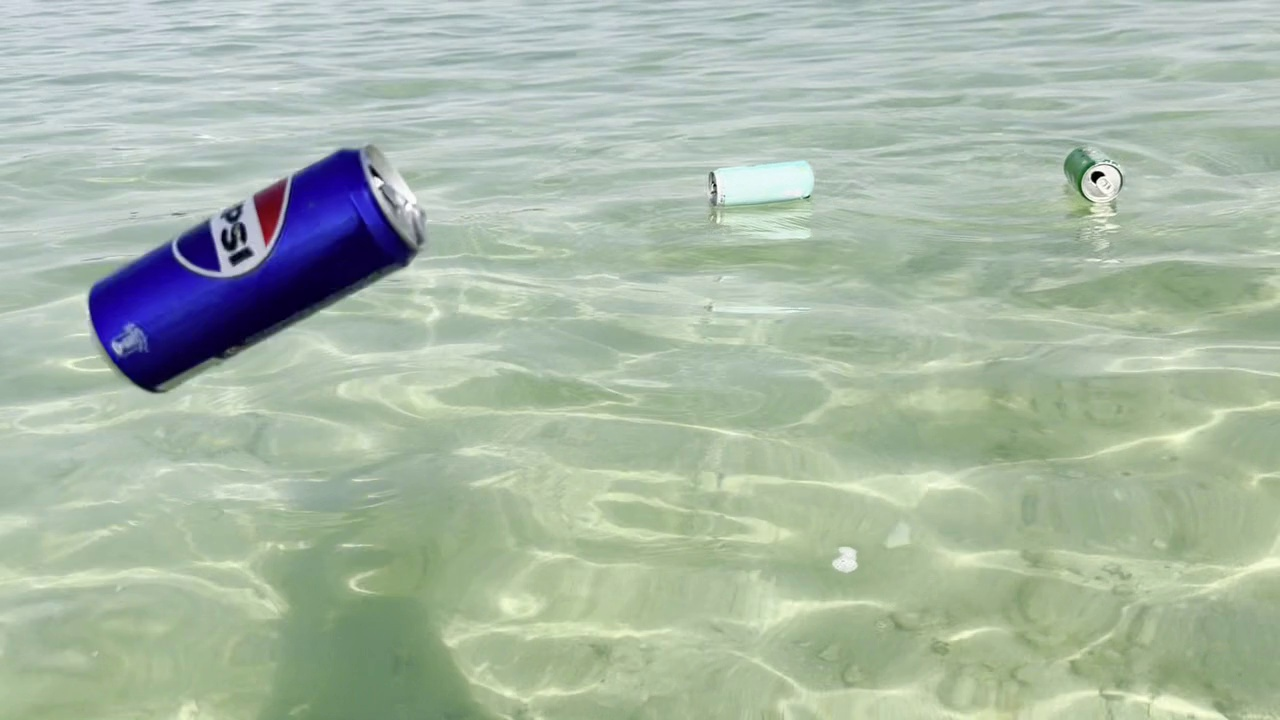debris: (74, 133, 435, 404), (704, 154, 820, 209), (1059, 140, 1131, 211)
